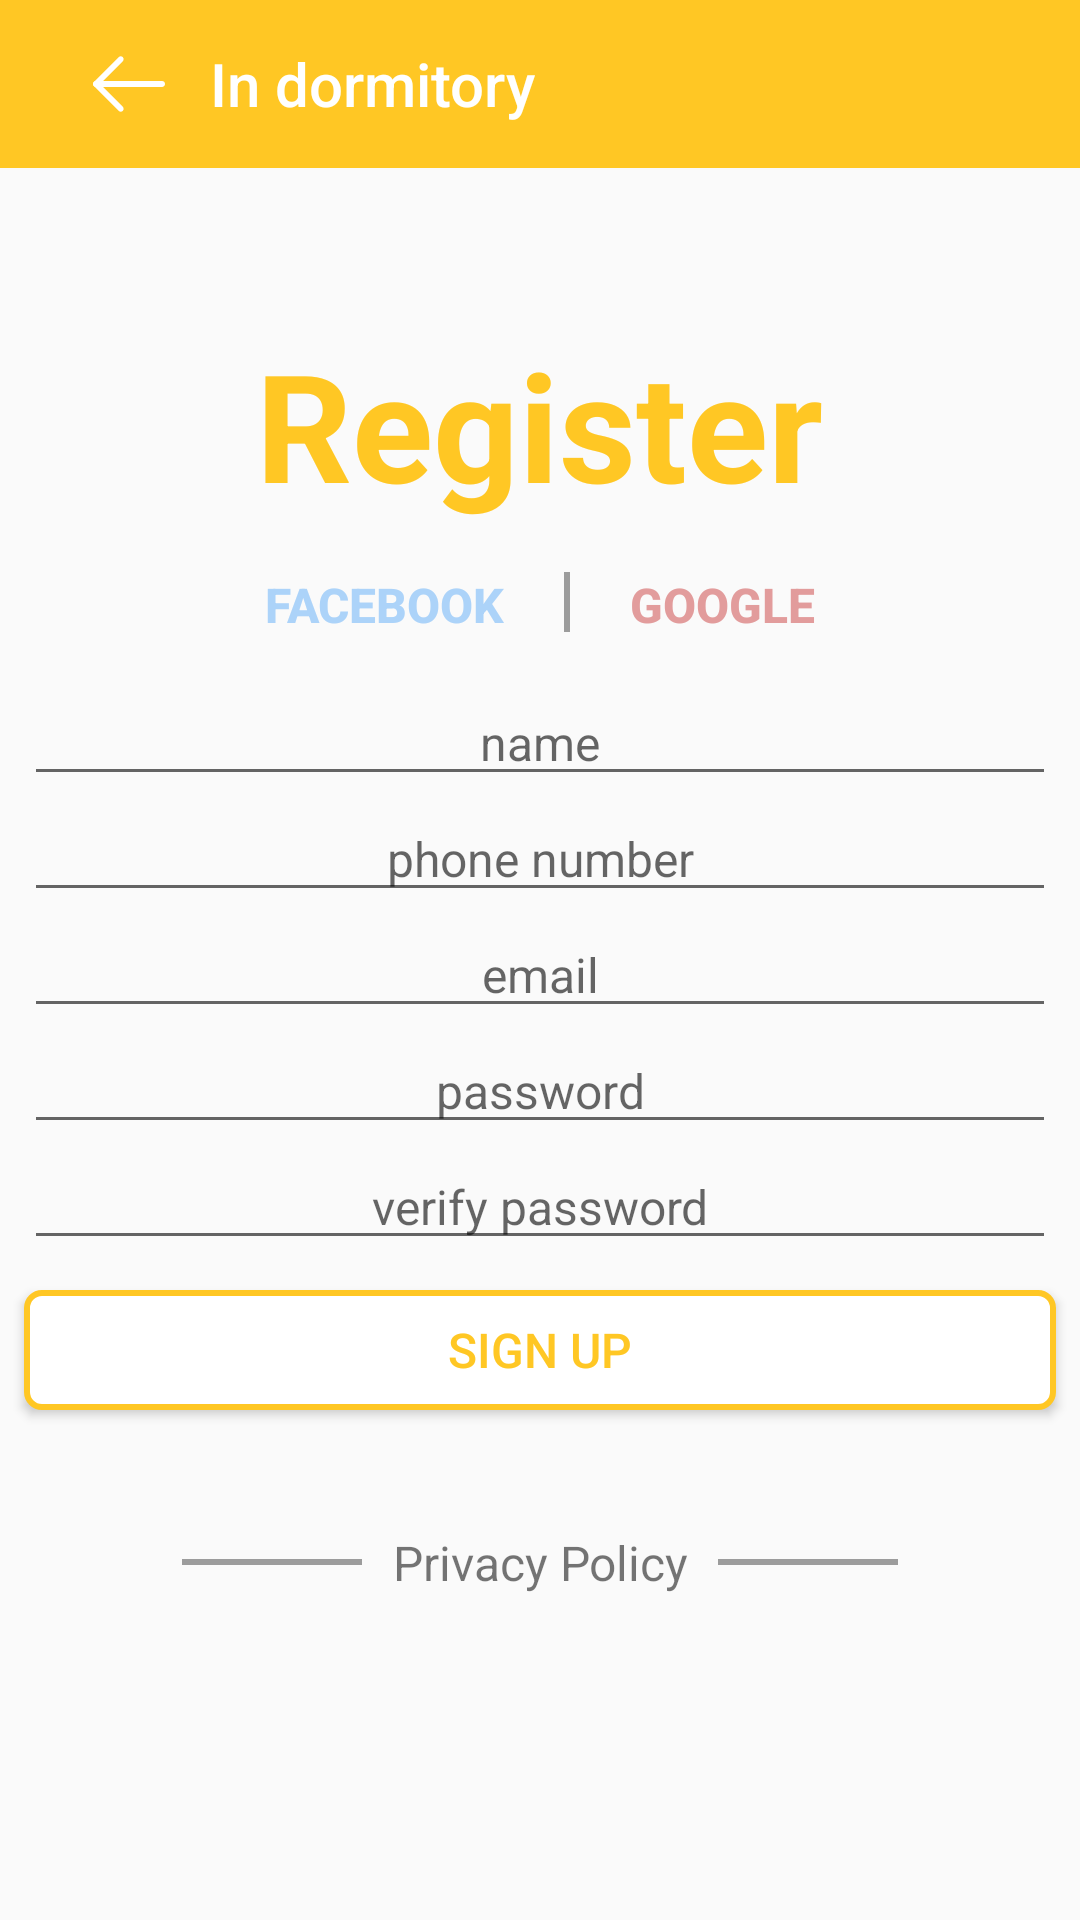

Icon click points for this 1080px x 1920px phone screenshot, format point (x, y):
back: point (129, 84)
